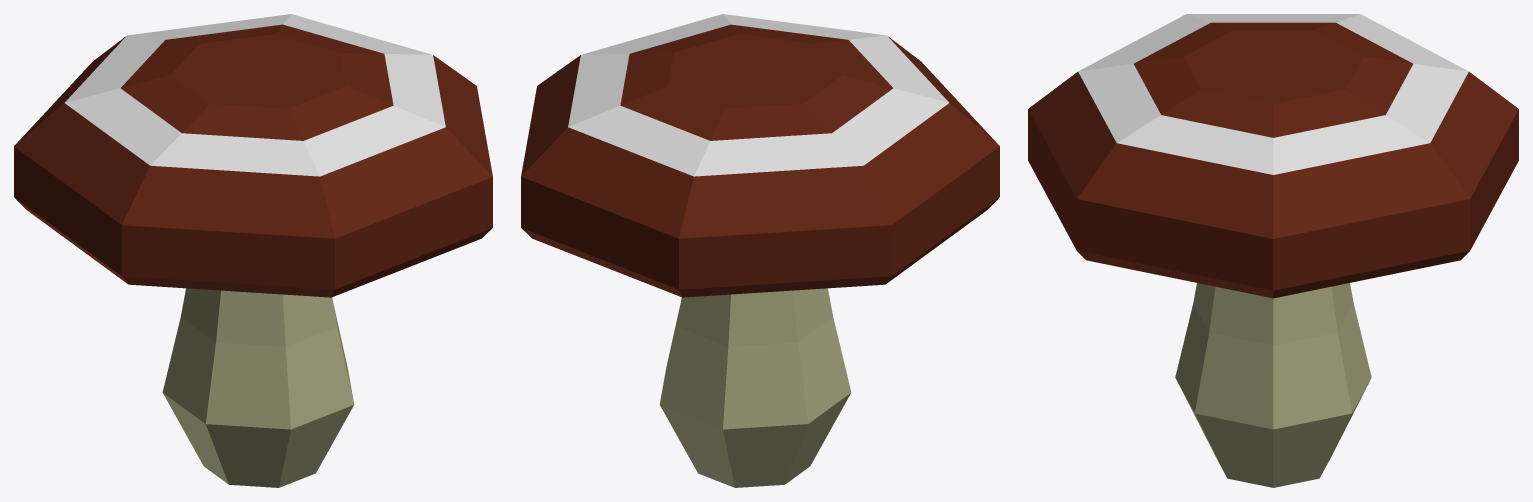
The model's file is Mushroom.fbx.
3 views of the same model, side by side, from view 1: azimuth 30°, elevation 25°; view 2: azimuth 150°, elevation 25°; view 3: azimuth 270°, elevation 25° (orthographic).
Visible parts, largest first — view 1: Mushroom; view 2: Mushroom; view 3: Mushroom.
Boxes of the visible parts, box(x1,y1,x2,y2) form: Mushroom: box(14, 14, 492, 487); Mushroom: box(521, 14, 999, 487); Mushroom: box(1028, 14, 1518, 487).
Size of the model in its own units: 47.49 by 43.54 by 48.72.
